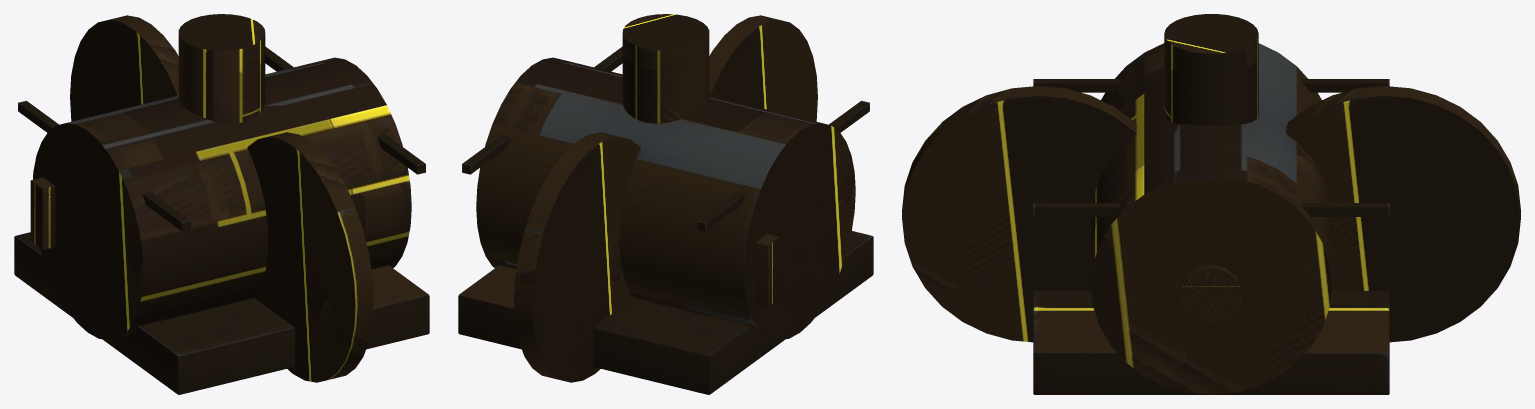
The model's file is PR_turbine.glb.
3 renders of one model, left to right at view 1: azimuth 30°, elevation 25°; view 2: azimuth 150°, elevation 25°; view 3: azimuth 270°, elevation 25°, orthographic. The views are drawn at different scales.
Visible parts, largest first — view 1: PR_turbine; view 2: PR_turbine; view 3: PR_turbine.
Boxes of the visible parts, x1=… form: PR_turbine: x1=14, y1=14, x2=429, y2=394; PR_turbine: x1=458, y1=14, x2=873, y2=394; PR_turbine: x1=902, y1=14, x2=1520, y2=394.
Size of the model in its own units: 3.55 by 3.2 by 5.9.
Materials: 1 (1 with a texture image).
